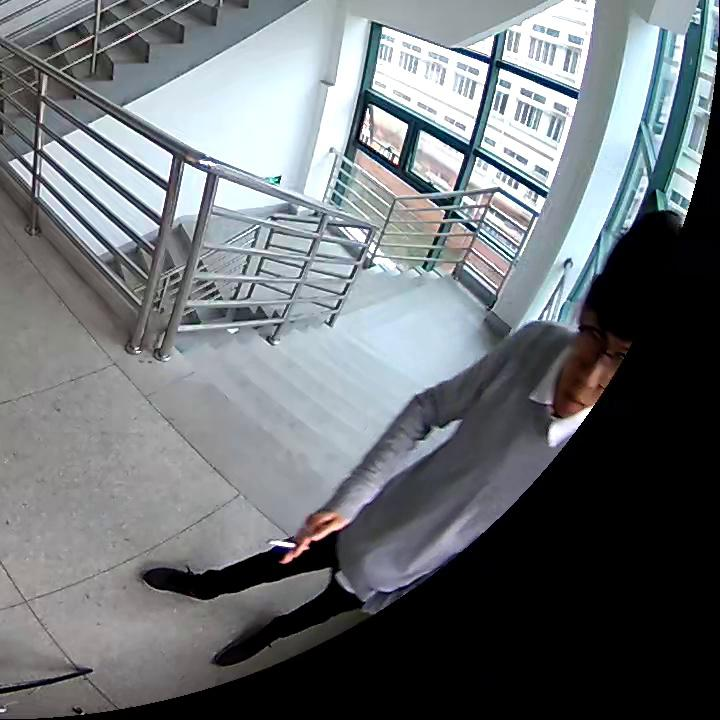handsmoke: (267, 510, 344, 564)
mouthwithoutsmoke: (556, 211, 681, 414)
